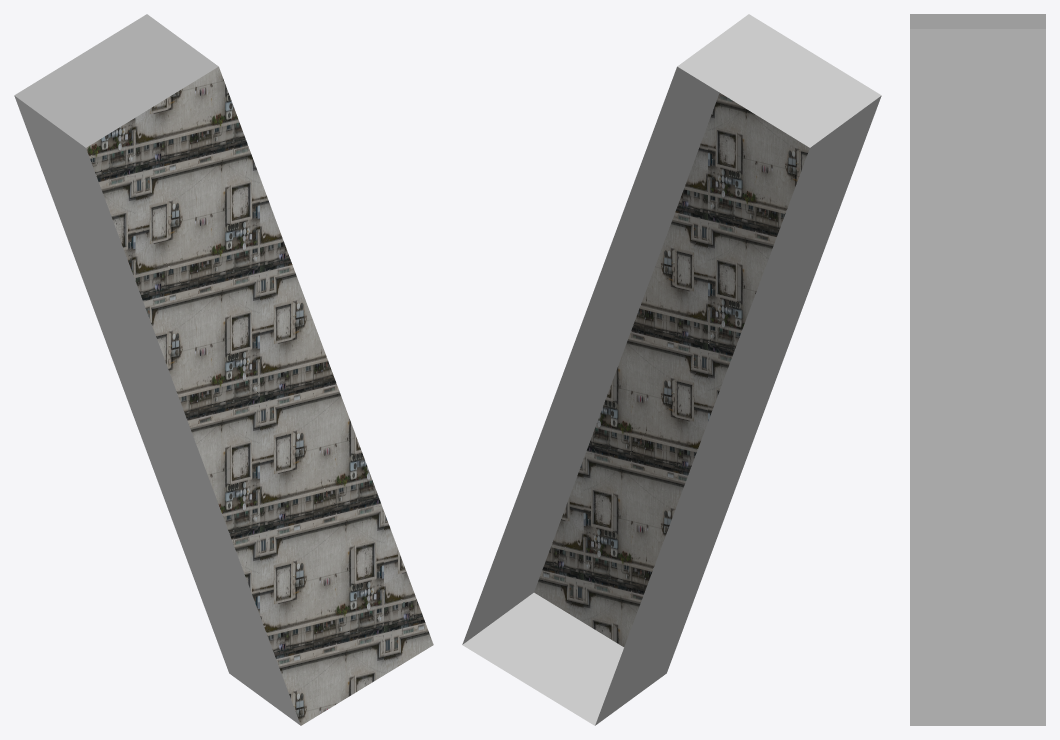
File: geospecific_243.obj
The picture shows the model from 3 angles, left to right: view 1: azimuth 30°, elevation 25°; view 2: azimuth 150°, elevation 25°; view 3: azimuth 270°, elevation 25°; orthographic projection. The views are drawn at different scales.
Visible parts, largest first — view 1: Building; view 2: Building; view 3: Building.
Part boxes in pixels (left/top/right/bottom): Building: left=14, top=14, right=433, bottom=725; Building: left=462, top=14, right=881, bottom=725; Building: left=910, top=14, right=1045, bottom=725.
Bounding box in the file's own units: 8.39 × 15.67 × 3.
